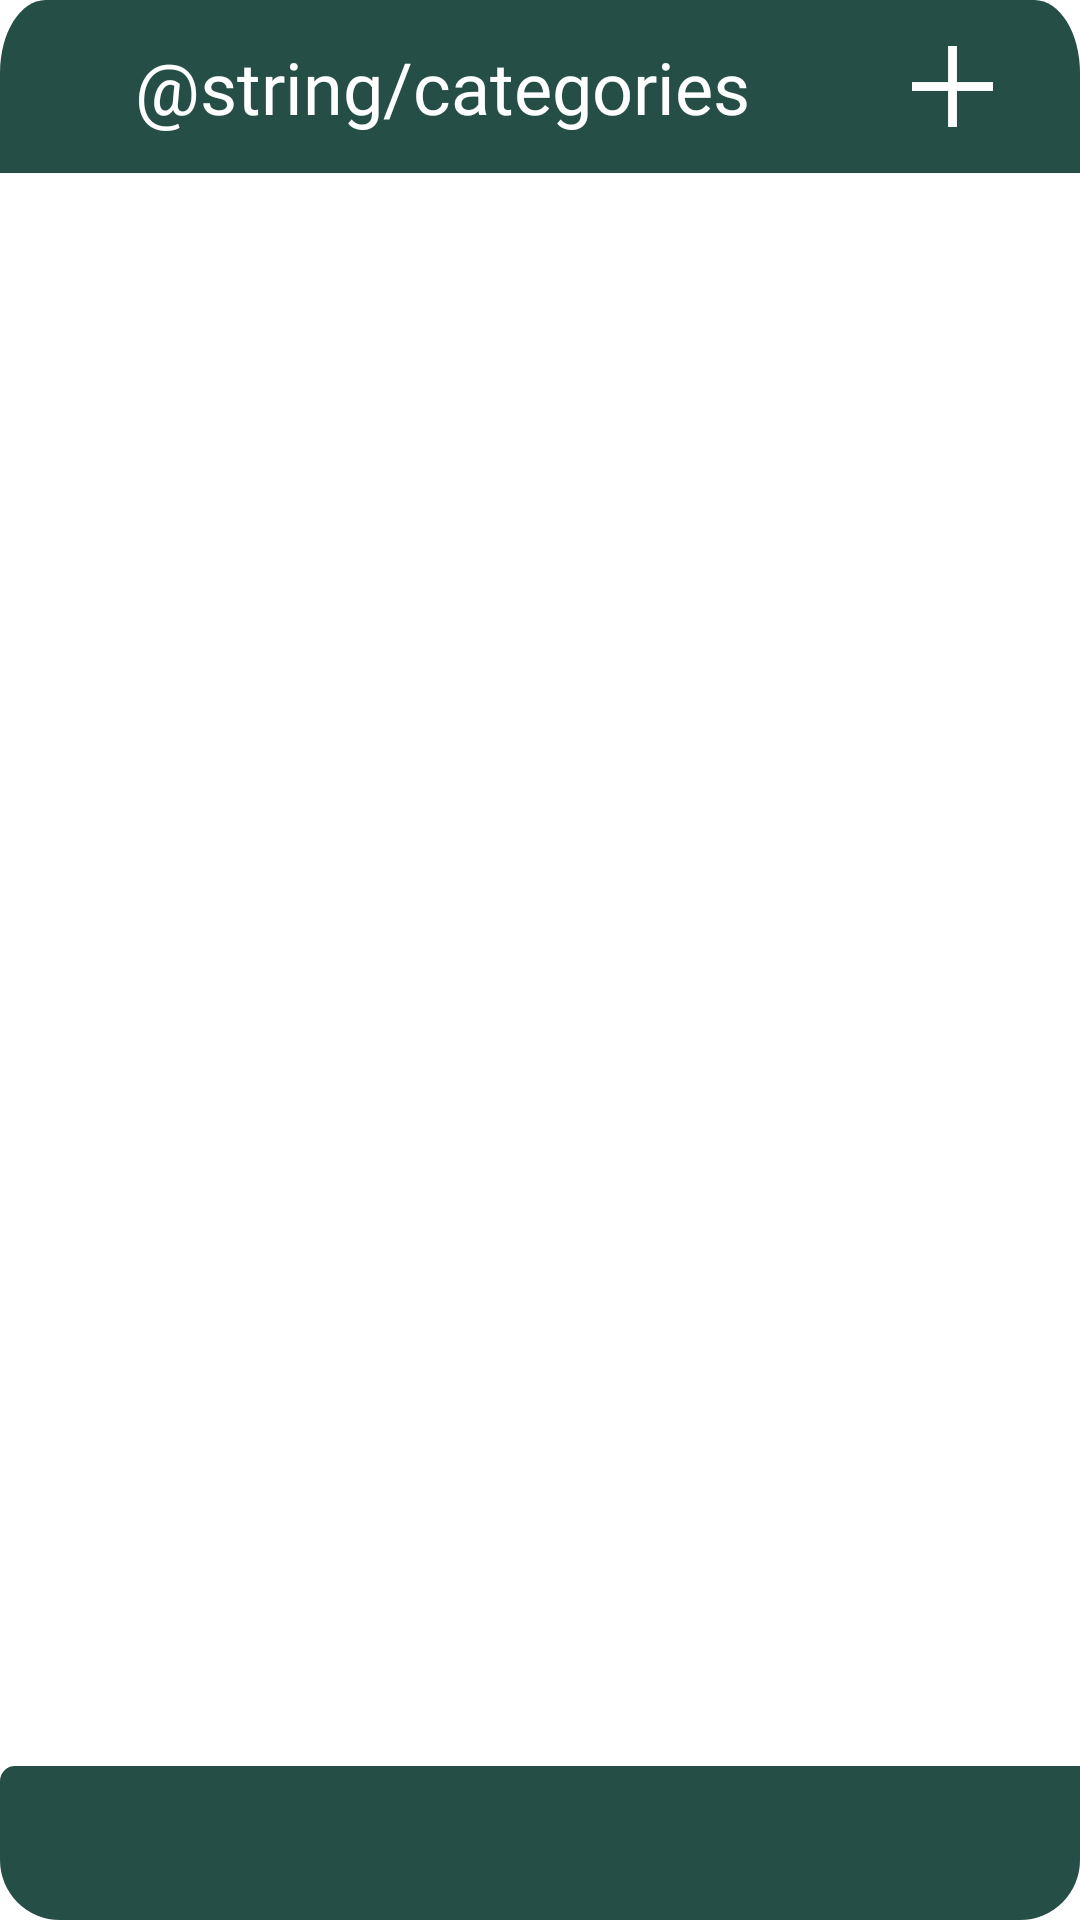

Named icons in this screenshot (1080 x 1920) and their centers, (x=x, y=y):
plus: (x=952, y=86)
